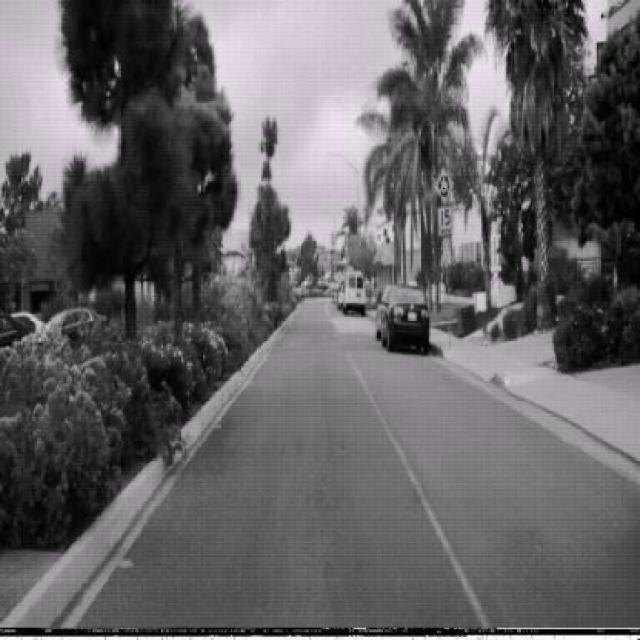roundabout: (434, 165, 453, 208)
